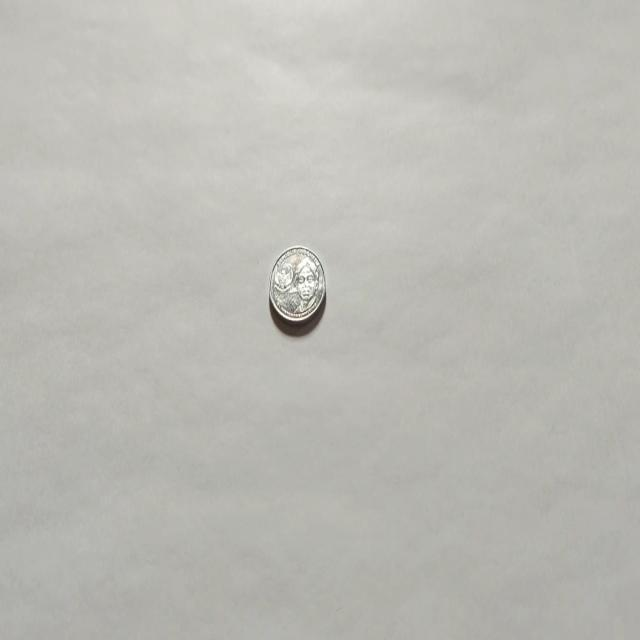dua ratus rupiah: (268, 245, 326, 328)
